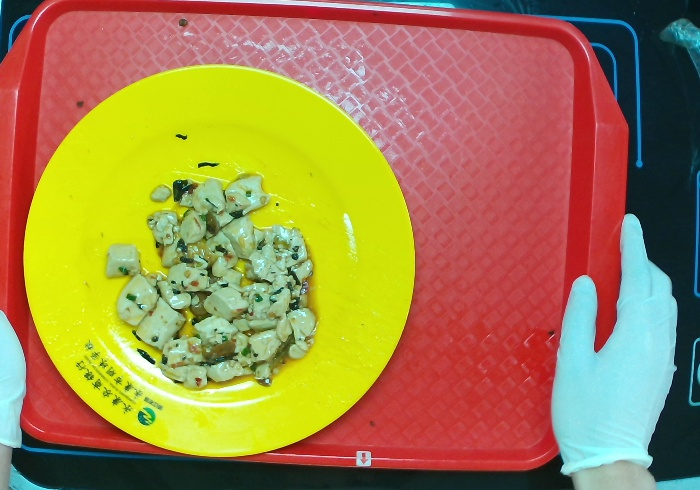YKMZ-Huang_Se_Mian_Pan: (21, 64, 416, 461)
